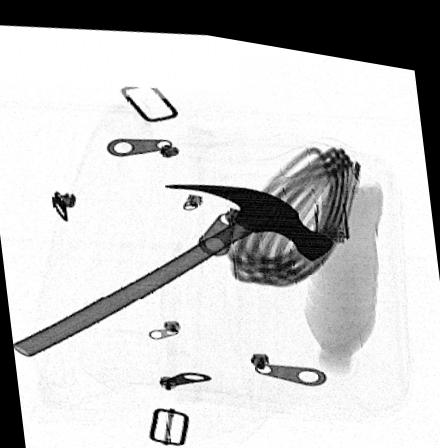Hammer: (13, 177, 337, 357)
